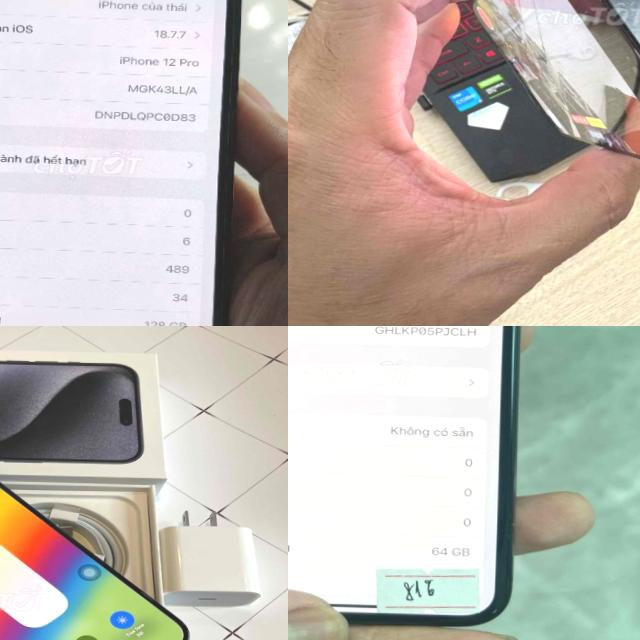gen_12_13: (0, 0, 247, 326)
gen_15: (0, 435, 205, 640)
gen_16: (446, 0, 640, 197)
gen_x_xs: (288, 326, 547, 640)
